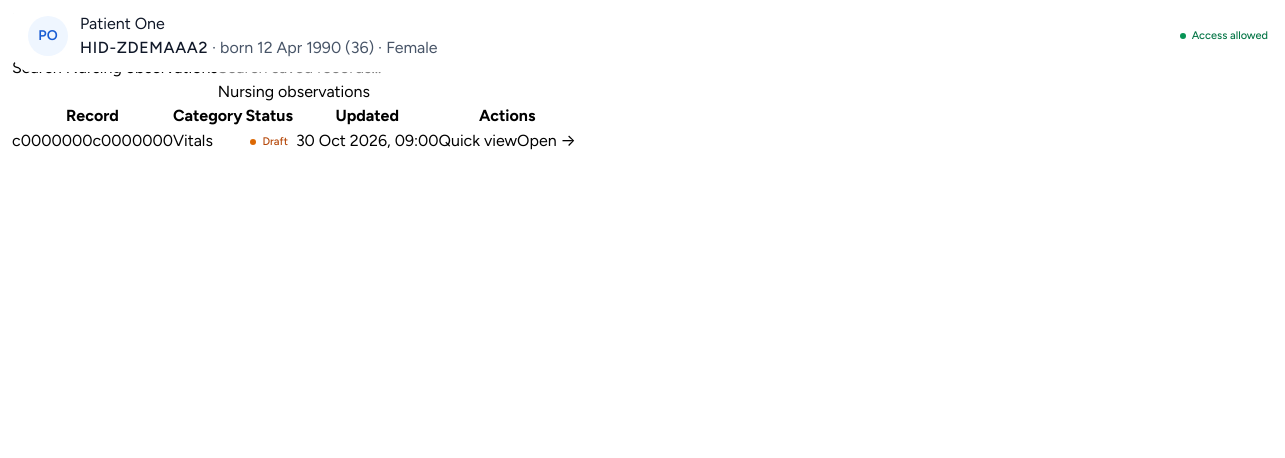
Scenario: New nursing observations › still shows an earlier observation saved under "Vitals", in the list and on its page
Expected: the text "Vitals" is shown, [173,128,242,154]
Click the link "c0000000".
click(52, 140)  # box [12,131,92,150]
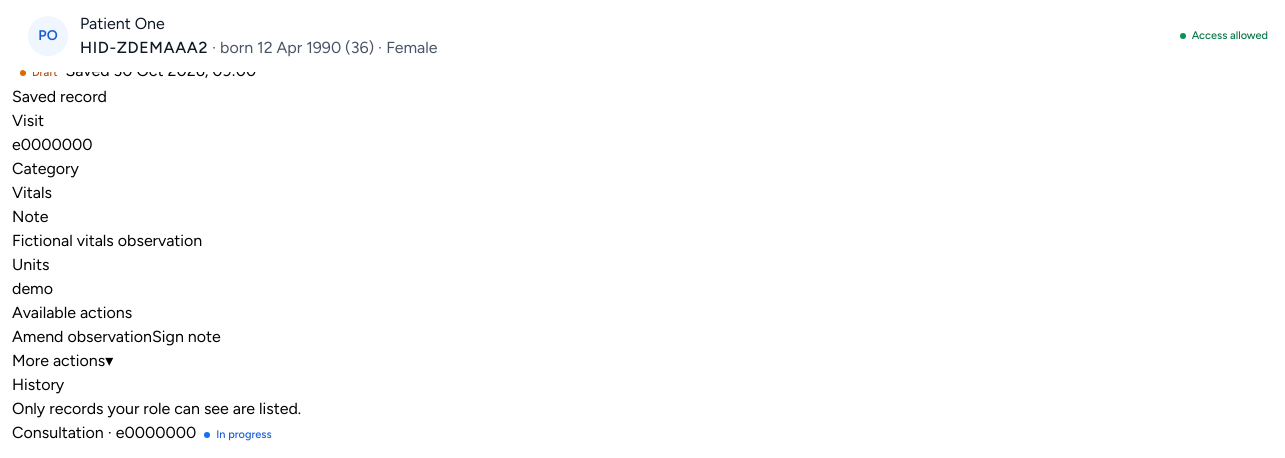
Expected: the heading "c0000000" is shown, [12,37,92,56]
Result: the text "Vitals" is shown at [12,183,52,202]
